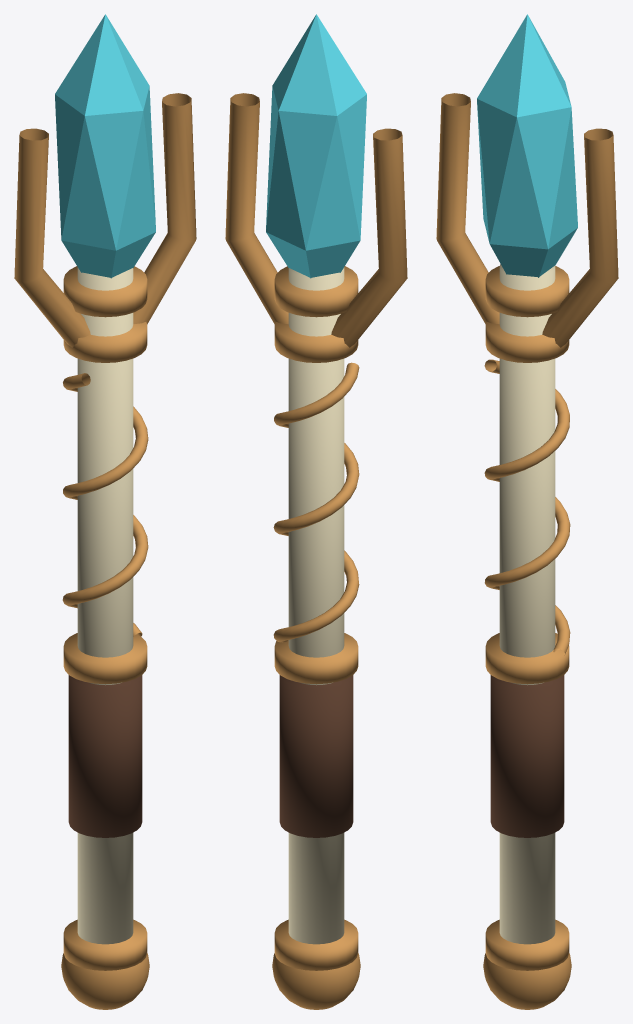
The model's file is veloce.glb.
3 views of the same model, side by side, from view 1: azimuth 30°, elevation 25°; view 2: azimuth 150°, elevation 25°; view 3: azimuth 330°, elevation 25° (orthographic).
Parts seen in each view (by area): view 1: Arme_veloce; view 2: Arme_veloce; view 3: Arme_veloce.
Part boxes in pixels (<box>): Arme_veloce: <box>14,14,196,1009</box>; Arme_veloce: <box>225,14,407,1009</box>; Arme_veloce: <box>436,14,618,1009</box>.
Bounding box in the file's own units: 0.1619 × 0.865 × 0.0766.
